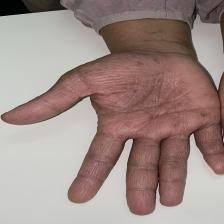Dermatitis kontak alergi: (82, 58, 224, 210)
